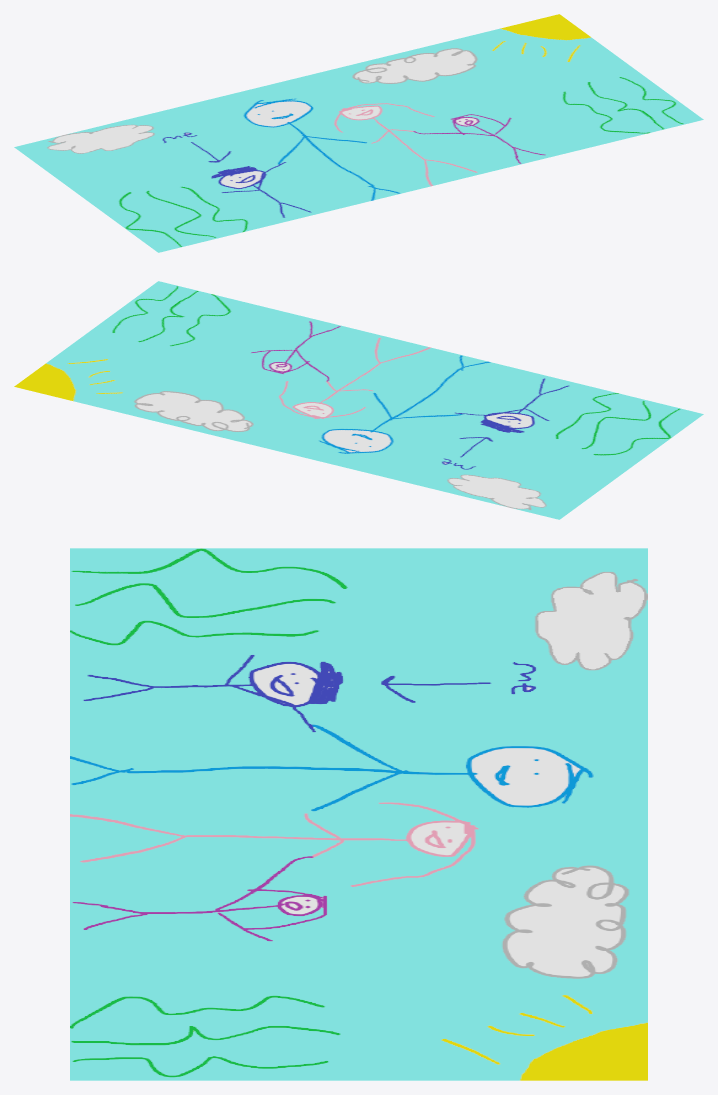
The model's file is famPics.fbx.
3 views of the same model, one above another, from view 1: azimuth 30°, elevation 25°; view 2: azimuth 150°, elevation 25°; view 3: azimuth 270°, elevation 25° (orthographic). The views are drawn at different scales.
Visible parts, largest first — view 1: UHfamiliyphoto.001, UHfamiliyphoto.003, UHfamiliyphoto.002; view 2: UHfamiliyphoto.001, UHfamiliyphoto.003, UHfamiliyphoto.002; view 3: UHfamiliyphoto.001, UHfamiliyphoto.003, UHfamiliyphoto.002.
Part boxes in pixels (x1,y1,x2,y2): UHfamiliyphoto.001: (337,14,703,163); UHfamiliyphoto.003: (14,104,384,252); UHfamiliyphoto.002: (190,68,524,197); UHfamiliyphoto.001: (14,281,347,440); UHfamiliyphoto.003: (384,359,703,519); UHfamiliyphoto.002: (236,324,477,476); UHfamiliyphoto.001: (70,860,647,1080); UHfamiliyphoto.003: (70,548,647,769); UHfamiliyphoto.002: (70,709,647,906).
Size of the model in its own units: 218 by 1.63e-05 by 100.
1 material, 1 textured.
